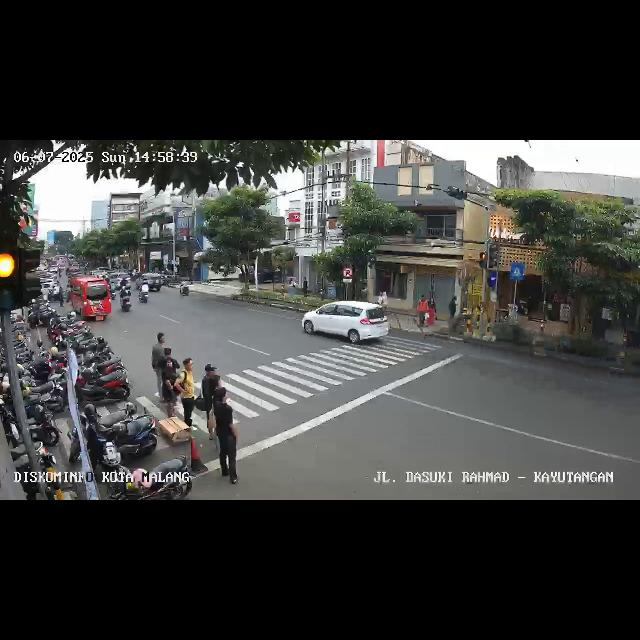car: (302, 300, 391, 348), (69, 278, 113, 324), (136, 271, 162, 293), (108, 272, 132, 290), (50, 265, 59, 273)
motorcycle: (118, 284, 132, 312), (138, 280, 150, 306), (119, 278, 131, 296), (180, 280, 190, 298), (109, 282, 117, 300), (58, 268, 64, 278)
person: (212, 388, 240, 487), (174, 357, 200, 433), (151, 332, 171, 404), (208, 375, 222, 465), (161, 346, 179, 412), (204, 363, 218, 441), (162, 358, 176, 418), (416, 296, 428, 328), (428, 297, 437, 329), (288, 278, 298, 298), (302, 276, 310, 298), (59, 284, 66, 308)
